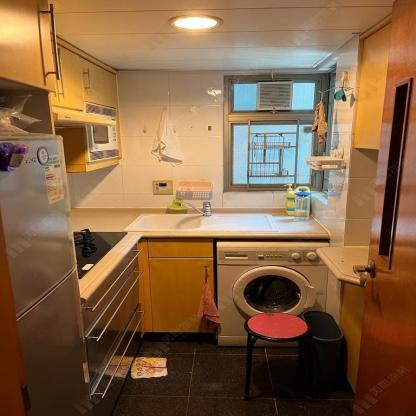Exhaust Fan: (255, 81, 293, 110)
Faucet: (178, 200, 215, 215)
Fridge: (0, 133, 95, 416)
Microwave: (83, 102, 120, 163)
Sink: (116, 212, 281, 234)
Stove: (73, 229, 140, 288)
Washing Machine: (214, 241, 331, 346)
